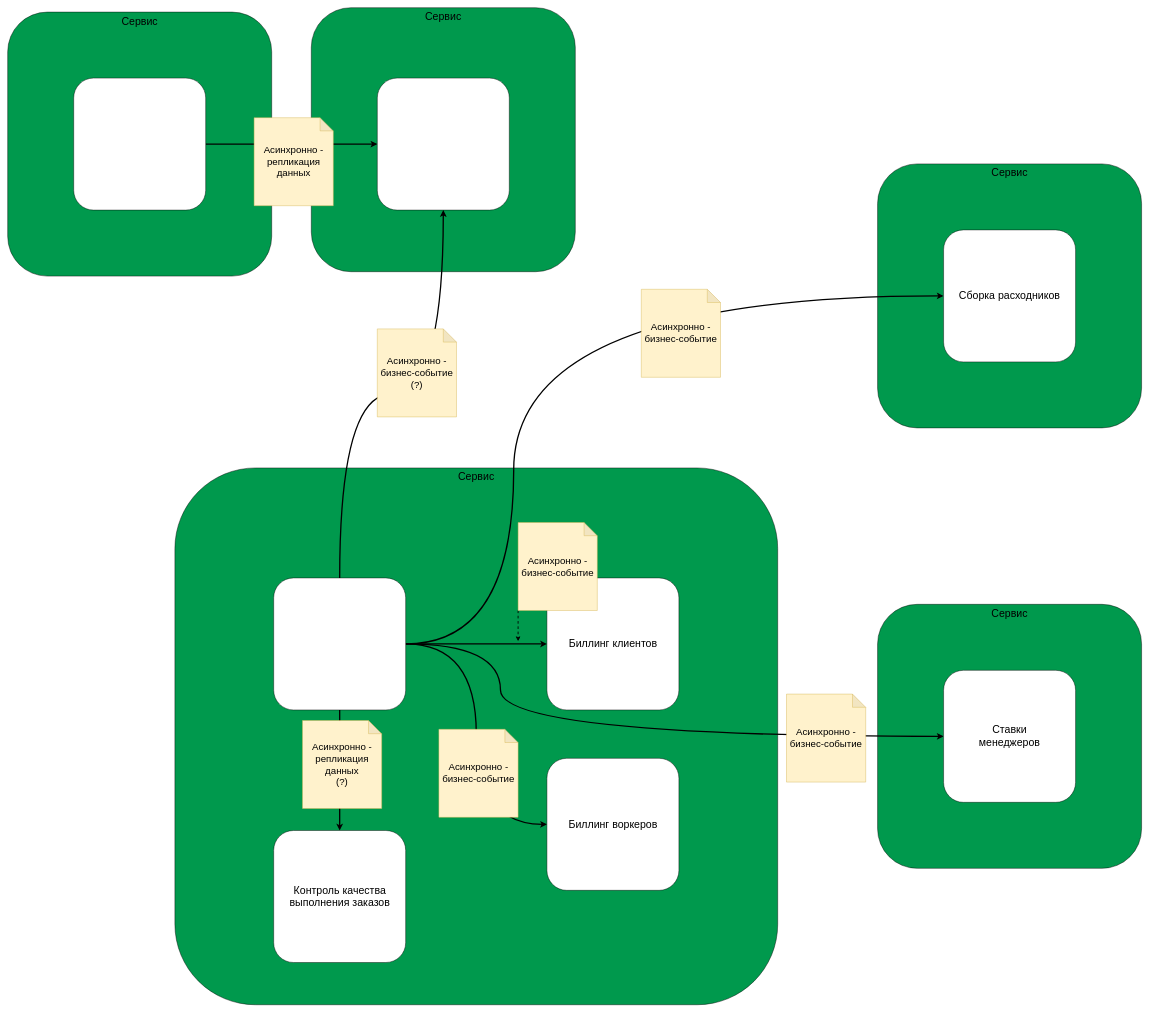
Some shapes in this 1149 by 1012 pixel diagram are drawn without their labels. The shapes that lost their labels are listed below. From the top down, each one's centre as x and y in pixels, then its label:
At (x=139, y=144): "Размещение вакансий и тестирование кандидатов".
At (x=443, y=144): "Матчинг исполнителей на задачи".
At (x=339, y=644): "Маркетплейс заявок от клиентов".
